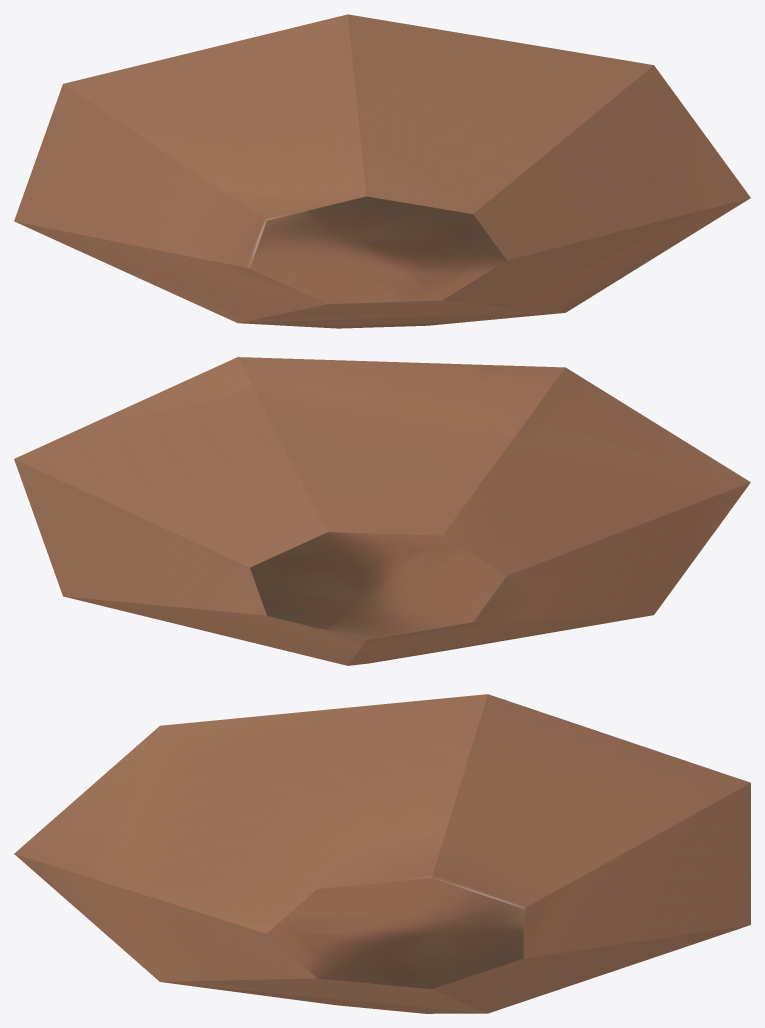
The model's file is Wooden_Bowl.fbx.
3 views of the same model, one above another, from view 1: azimuth 30°, elevation 25°; view 2: azimuth 150°, elevation 25°; view 3: azimuth 270°, elevation 25° (orthographic). The views are drawn at different scales.
Visible parts, largest first — view 1: Cylinder; view 2: Cylinder; view 3: Cylinder.
Boxes of the visible parts, x1,y1,x2,y2 form: Cylinder: (14,14,750,328); Cylinder: (14,357,750,665); Cylinder: (14,694,750,1013).
Bounding box in the file's own units: 0.3217 × 0.3136 × 0.0547.
1 material, 1 textured.
